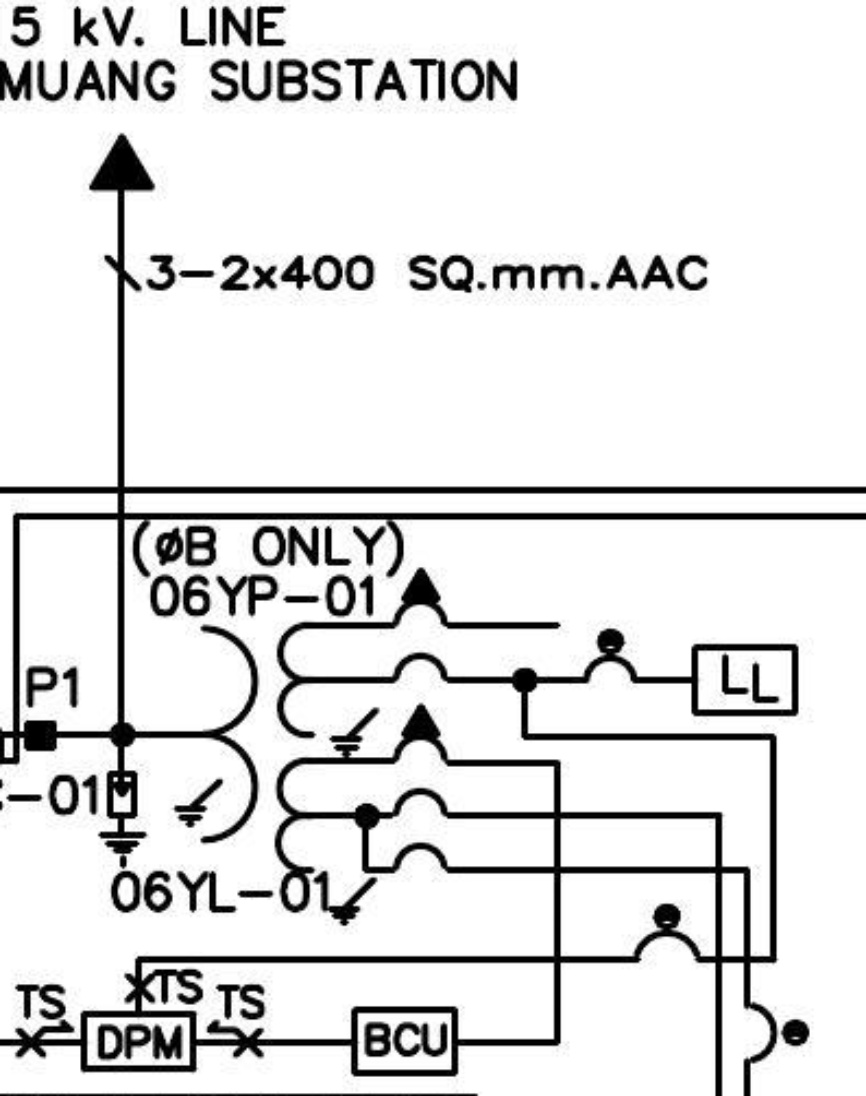115_la: (97, 770, 149, 870)
115_vt_1p: (171, 566, 452, 927)
BCU: (350, 1005, 460, 1078)
DPM: (79, 1010, 197, 1073)
LL: (691, 643, 799, 717)
